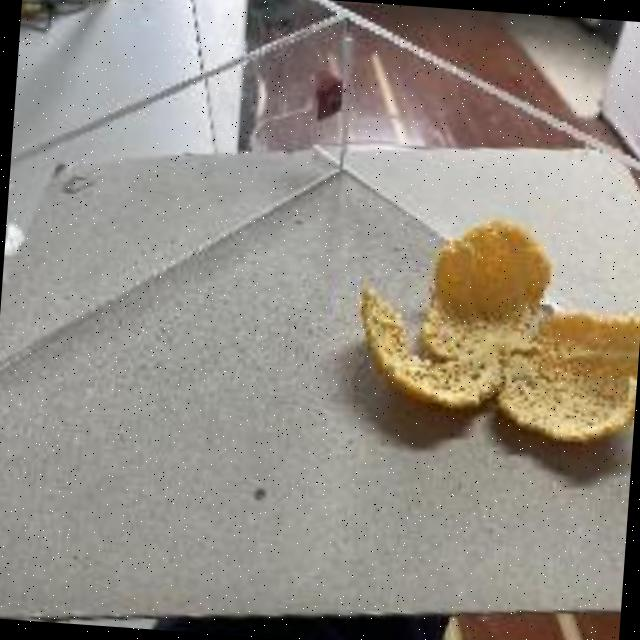orange-peel: (428, 211, 555, 327)
